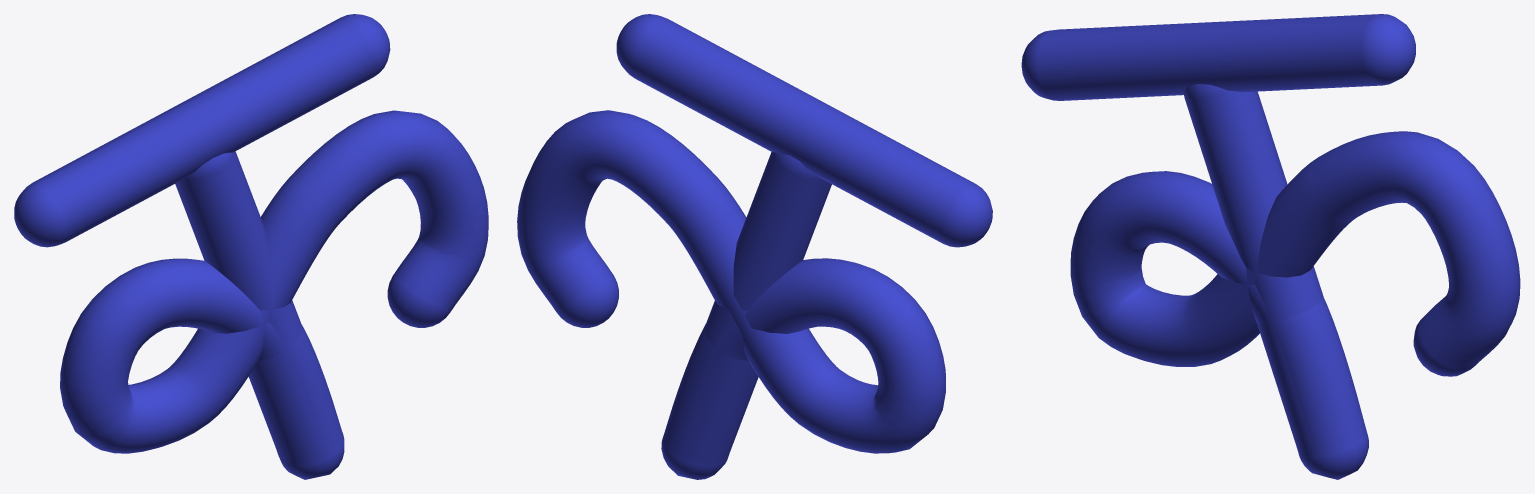
The model's file is Ka_hindi2.fbx.
3 renders of one model, left to right at view 1: azimuth 30°, elevation 25°; view 2: azimuth 150°, elevation 25°; view 3: azimuth 330°, elevation 25°, orthographic. The views are drawn at different scales.
Visible parts, largest first — view 1: node_id57 (×2); view 2: node_id57 (×2); view 3: node_id57 (×2).
Boxes of the visible parts, left/top/right/bottom form: node_id57 (×2): left=14, top=14, right=488, bottom=479; node_id57 (×2): left=517, top=14, right=992, bottom=479; node_id57 (×2): left=1021, top=14, right=1520, bottom=479.
Size of the model in its own units: 0.4704 by 0.4309 by 0.0593.
